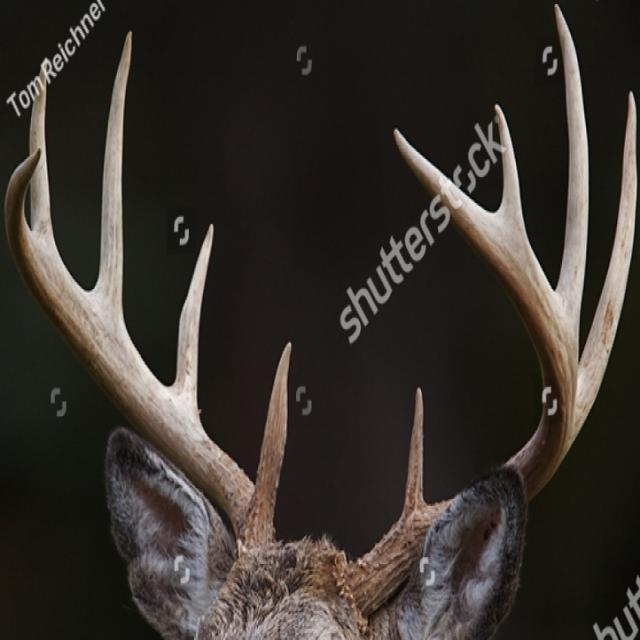E1: (491, 103, 531, 246)
L-G1: (402, 385, 427, 516)
L-G2: (575, 92, 638, 439)
L-G3: (554, 1, 590, 360)
R-F: (4, 144, 278, 560)
R-G1: (254, 340, 292, 516)
R-G2: (167, 223, 214, 427)
R-G3: (92, 30, 132, 323)
